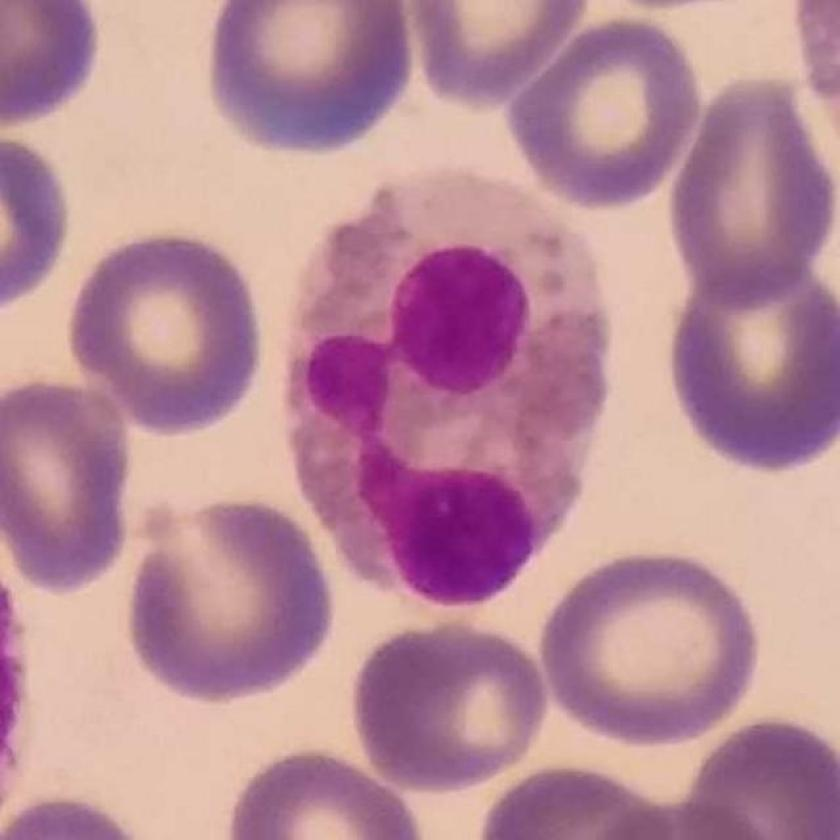eosinophil: (286, 168, 614, 611)
